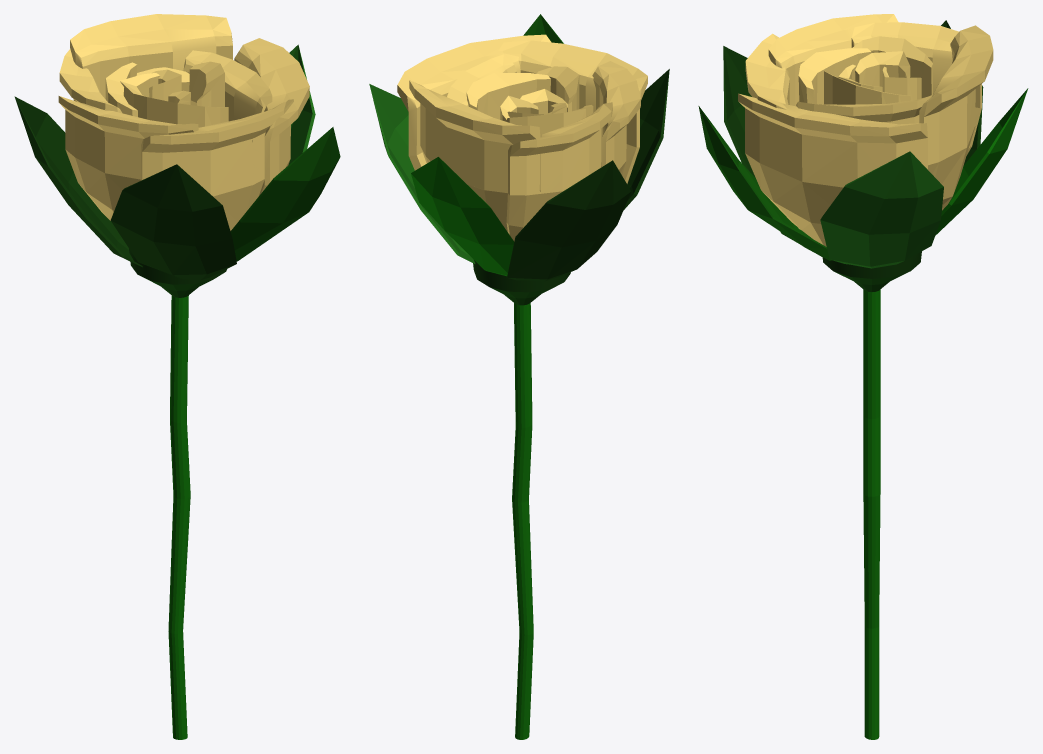
File: jangmi1-3.fbx
3 renders of one model, left to right at view 1: azimuth 30°, elevation 25°; view 2: azimuth 150°, elevation 25°; view 3: azimuth 270°, elevation 25°, orthographic. The views are drawn at different scales.
Visible parts, largest first — view 1: jangmi1-3; view 2: jangmi1-3; view 3: jangmi1-3.
Part boxes in pixels (left/top/right/bottom): jangmi1-3: left=14, top=14, right=340, bottom=739; jangmi1-3: left=369, top=14, right=669, bottom=739; jangmi1-3: left=698, top=14, right=1028, bottom=739.
Bounding box in the file's own units: 0.1813 × 0.4395 × 0.1926.
